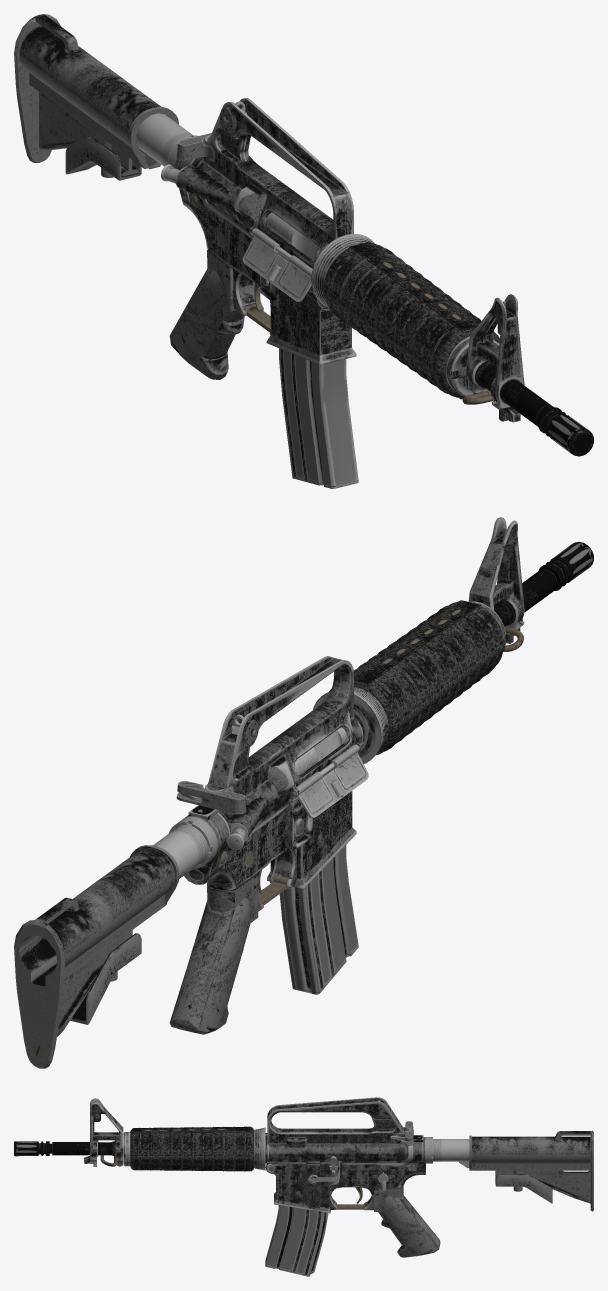
3 renders of one model, top to bottom at view 1: azimuth 30°, elevation 25°; view 2: azimuth 150°, elevation 25°; view 3: azimuth 270°, elevation 25°, orthographic. The views are drawn at different scales.
Visible parts, largest first — view 1: Colt_Body, Mag, Port_Cover, Bolt, Charging_Handle; view 2: Colt_Body, Mag, Port_Cover, Charging_Handle, Bolt; view 3: Colt_Body, Mag, Charging_Handle.
Boxes of the visible parts, x1=… form: Colt_Body: x1=14, y1=14, x2=593, y2=456; Mag: x1=279, y1=348, x2=358, y2=488; Port_Cover: x1=242, y1=228, x2=312, y2=301; Bolt: x1=266, y1=212, x2=318, y2=260; Charging_Handle: x1=176, y1=133, x2=213, y2=160; Colt_Body: x1=14, y1=517, x2=593, y2=1068; Mag: x1=279, y1=845, x2=358, y2=994; Port_Cover: x1=296, y1=744, x2=368, y2=817; Charging_Handle: x1=176, y1=781, x2=246, y2=814; Bolt: x1=294, y1=727, x2=346, y2=775; Colt_Body: x1=14, y1=1097, x2=593, y2=1257; Mag: x1=265, y1=1205, x2=328, y2=1276; Charging_Handle: x1=390, y1=1121, x2=413, y2=1145.
Size of the model in its own units: 0.017 by 0.0679 by 0.2053.
2 materials, 2 textured.
